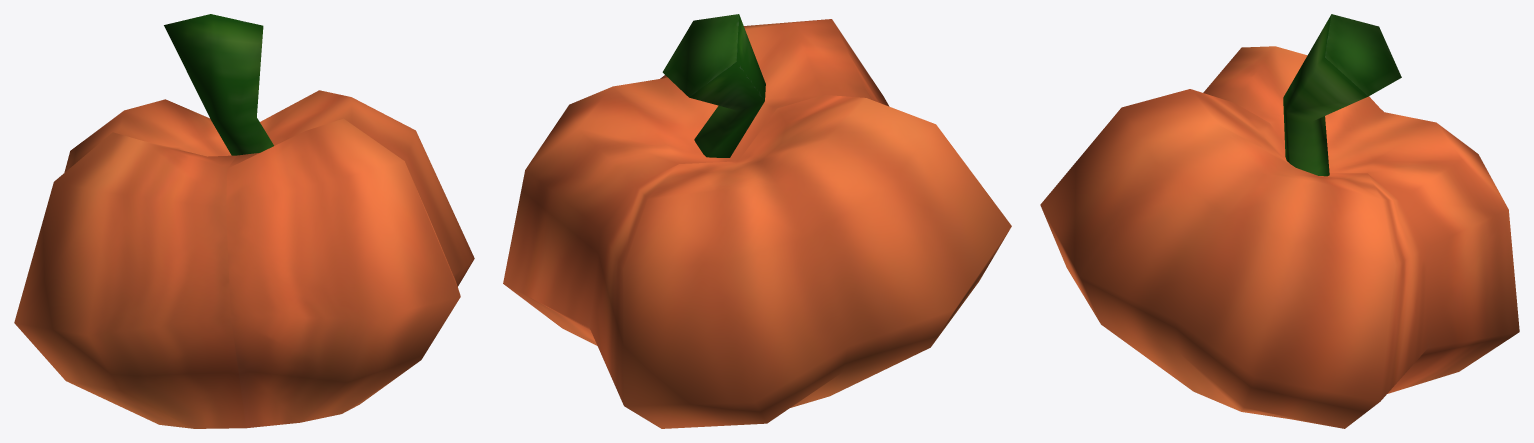
Rendered from FRM0110017.fbx.
3 views of the same model, side by side, from view 1: azimuth 30°, elevation 25°; view 2: azimuth 150°, elevation 25°; view 3: azimuth 270°, elevation 25° (orthographic). The views are drawn at different scales.
Visible parts, largest first — view 1: smFRM0110017; view 2: smFRM0110017; view 3: smFRM0110017.
Part boxes in pixels (x1,y1,x2,y2): smFRM0110017: (14, 14, 474, 428); smFRM0110017: (503, 14, 1011, 428); smFRM0110017: (1040, 14, 1519, 428).
Bounding box in the file's own units: 85.99 × 74.83 × 86.68.
Materials: 1 (1 with a texture image).
